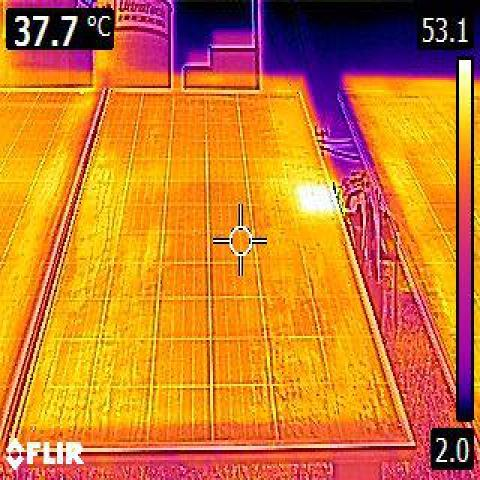fault: (300, 182, 332, 212)
